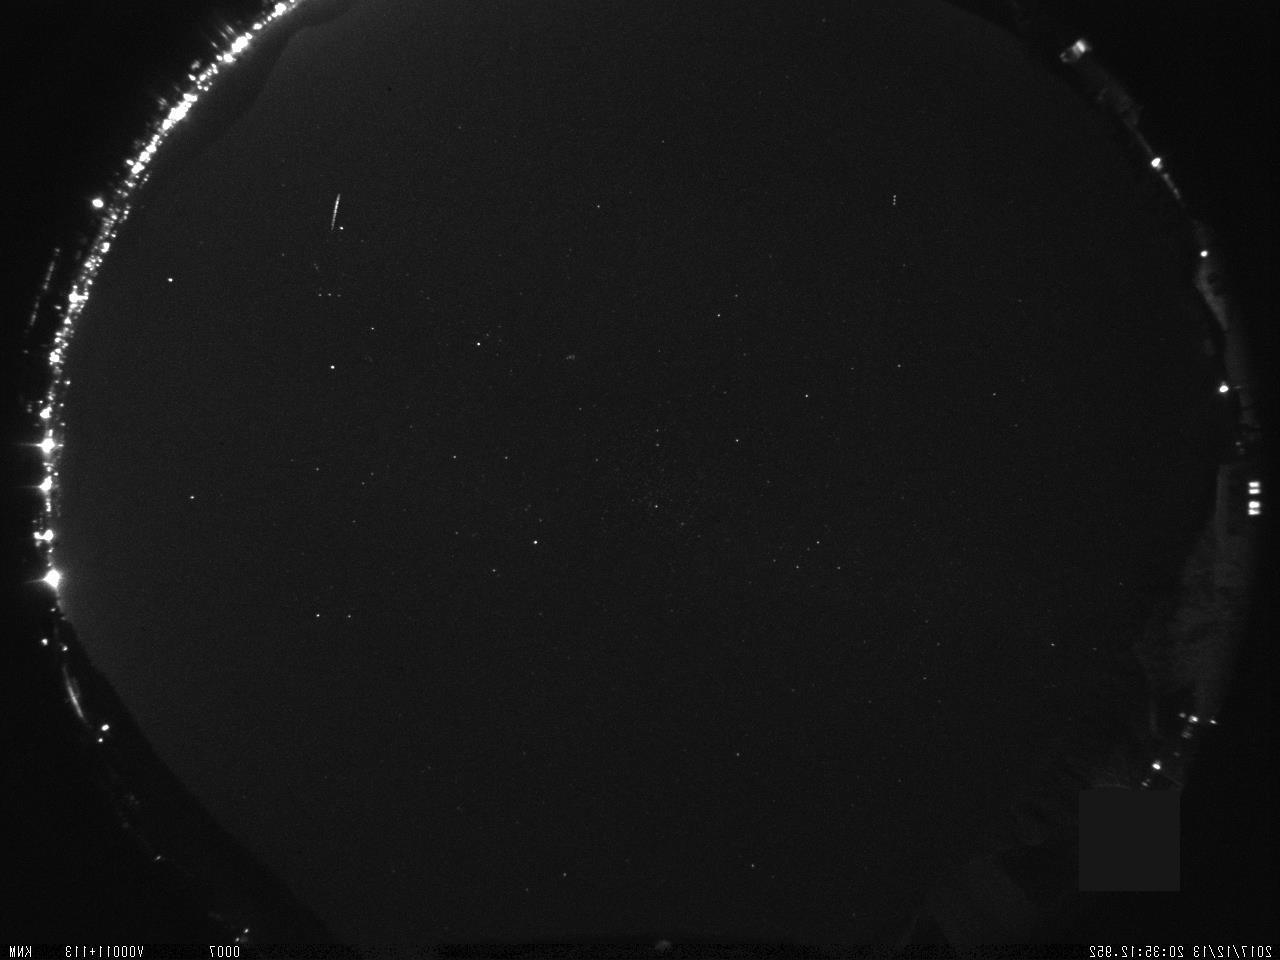meteor: (249, 175, 377, 246)
